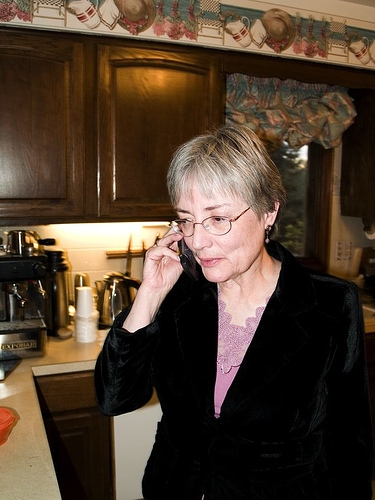phone: (159, 215, 199, 280)
talk: (141, 202, 248, 293)
